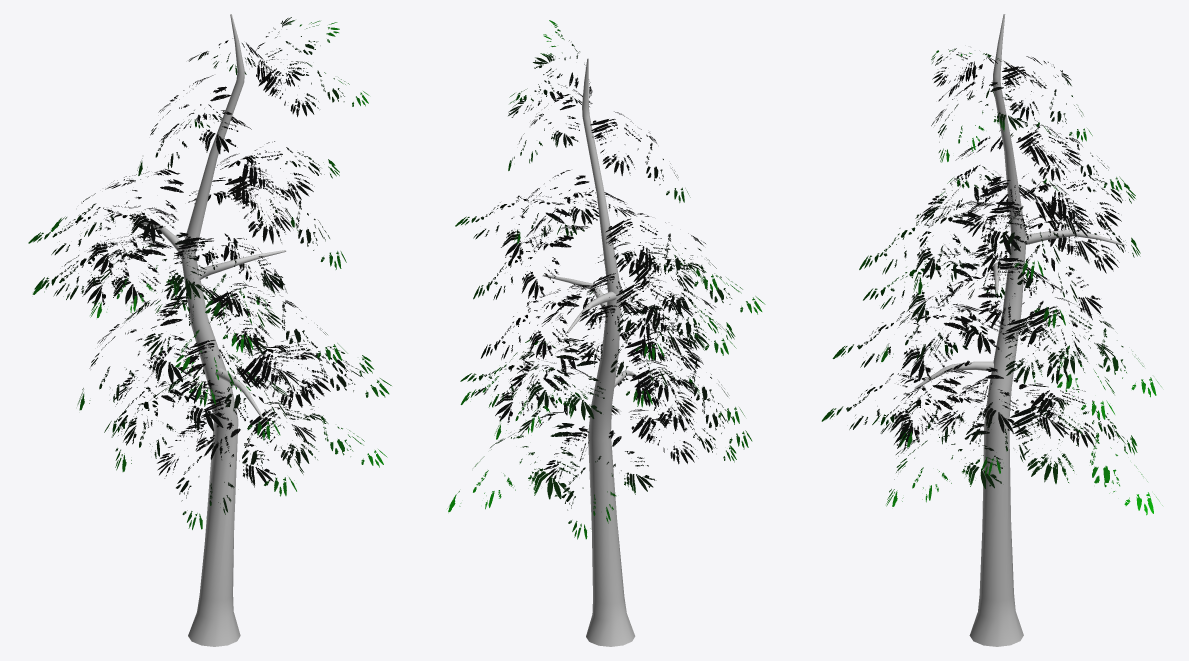
Rendered from Tree_Smal_001.fbx.
3 views of the same model, side by side, from view 1: azimuth 30°, elevation 25°; view 2: azimuth 150°, elevation 25°; view 3: azimuth 270°, elevation 25° (orthographic). The views are drawn at different scales.
Parts seen in each view (by area): view 1: leaf, tree3; view 2: leaf, tree3; view 3: leaf, tree3.
Part boxes in pixels (bbox=[...]): leaf: bbox=[28, 17, 391, 529]; tree3: bbox=[138, 14, 286, 646]; leaf: bbox=[447, 20, 765, 539]; tree3: bbox=[543, 58, 636, 646]; leaf: bbox=[821, 48, 1162, 515]; tree3: bbox=[914, 14, 1122, 646].
Size of the model in its own units: 3.11 by 5.35 by 2.82.
